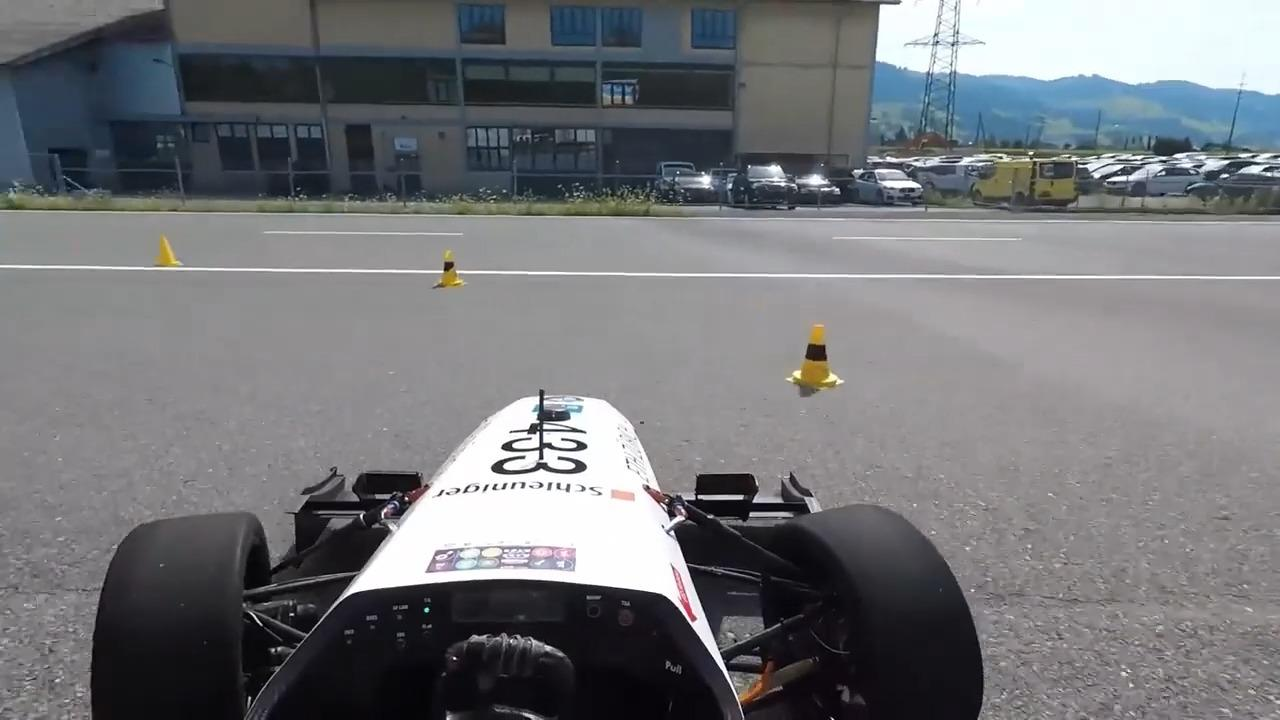yellow_cone: (787, 324, 843, 393), (436, 250, 466, 289), (153, 236, 183, 267)
